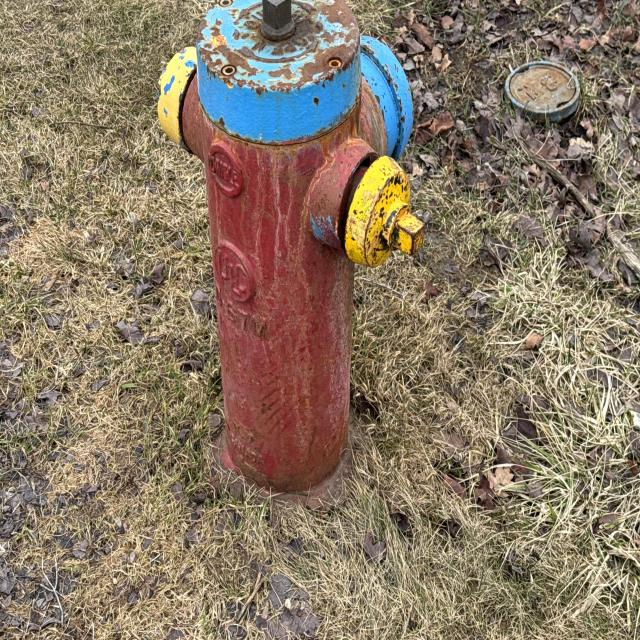Fire hydrant: (157, 1, 426, 519)
